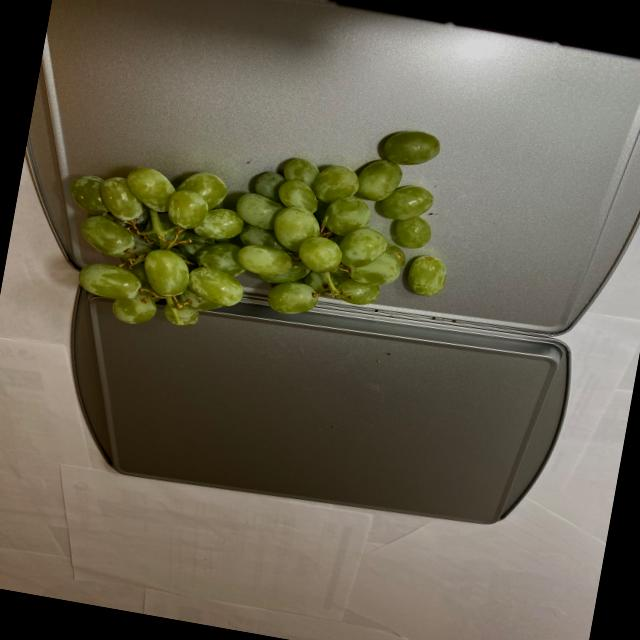grapes: (45, 75, 472, 378)
